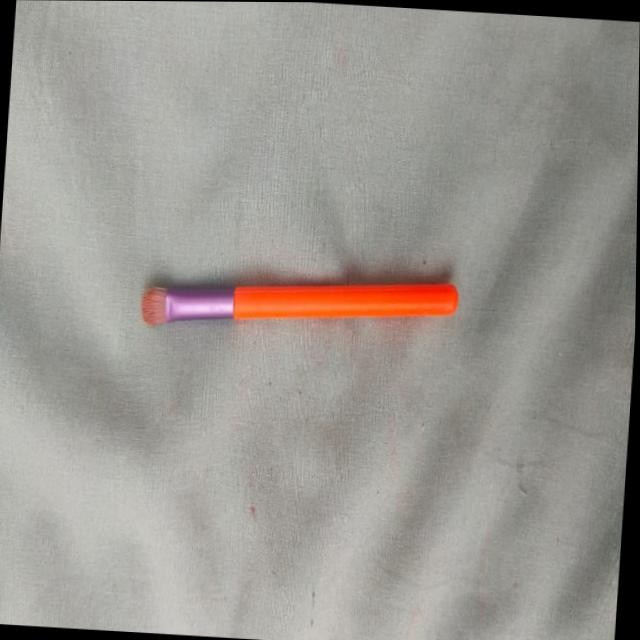brush: (116, 223, 478, 407)
